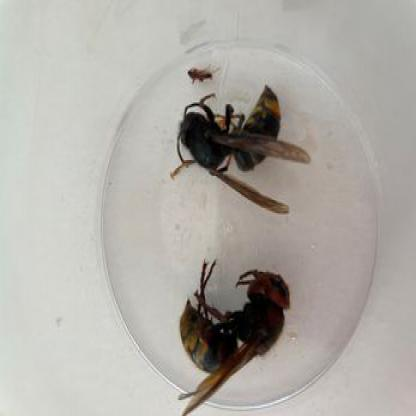Asian Hornet: (174, 78, 320, 229), (168, 253, 302, 410)
